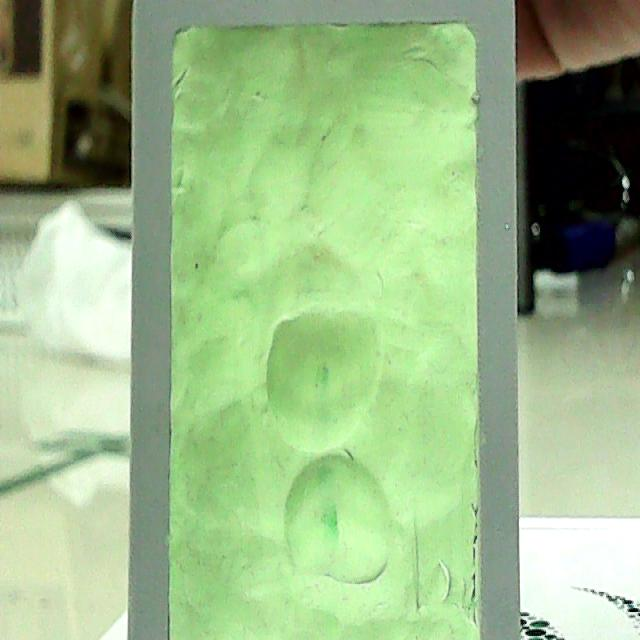block: (125, 0, 536, 640)
